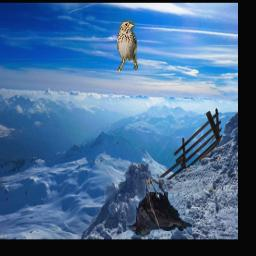Crow: (126, 180, 192, 238)
Sparrow: (116, 20, 137, 73)
